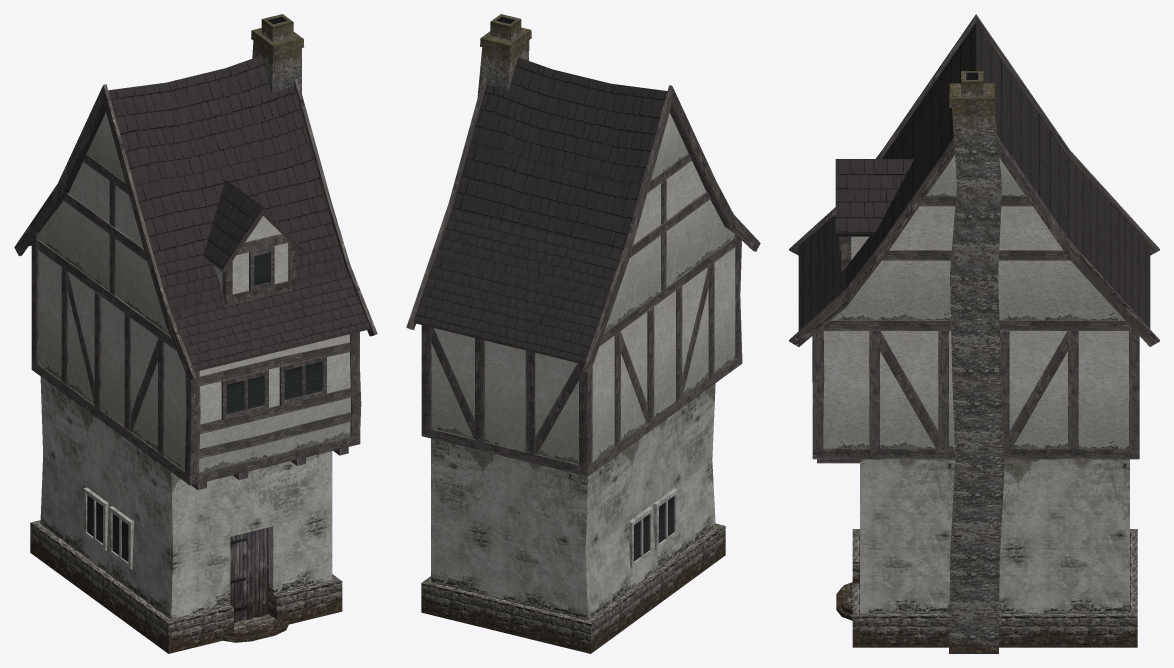
The model's file is poorfolks_urban_housing_main.FBX.
3 views of the same model, side by side, from view 1: azimuth 30°, elevation 25°; view 2: azimuth 150°, elevation 25°; view 3: azimuth 270°, elevation 25° (orthographic). The views are drawn at different scales.
Visible parts, largest first — view 1: Object045; view 2: Object045; view 3: Object045.
Boxes of the visible parts, left/top/right/bottom form: Object045: left=14, top=14, right=377, bottom=653; Object045: left=406, top=14, right=760, bottom=653; Object045: left=789, top=14, right=1159, bottom=653.
Size of the model in its own units: 420 by 687 by 1163.
